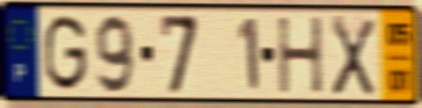1: (235, 16, 261, 95)
7: (159, 12, 200, 97)
9: (93, 12, 138, 96)
G: (42, 12, 90, 95)
H: (275, 15, 326, 97)
X: (329, 13, 377, 99)
